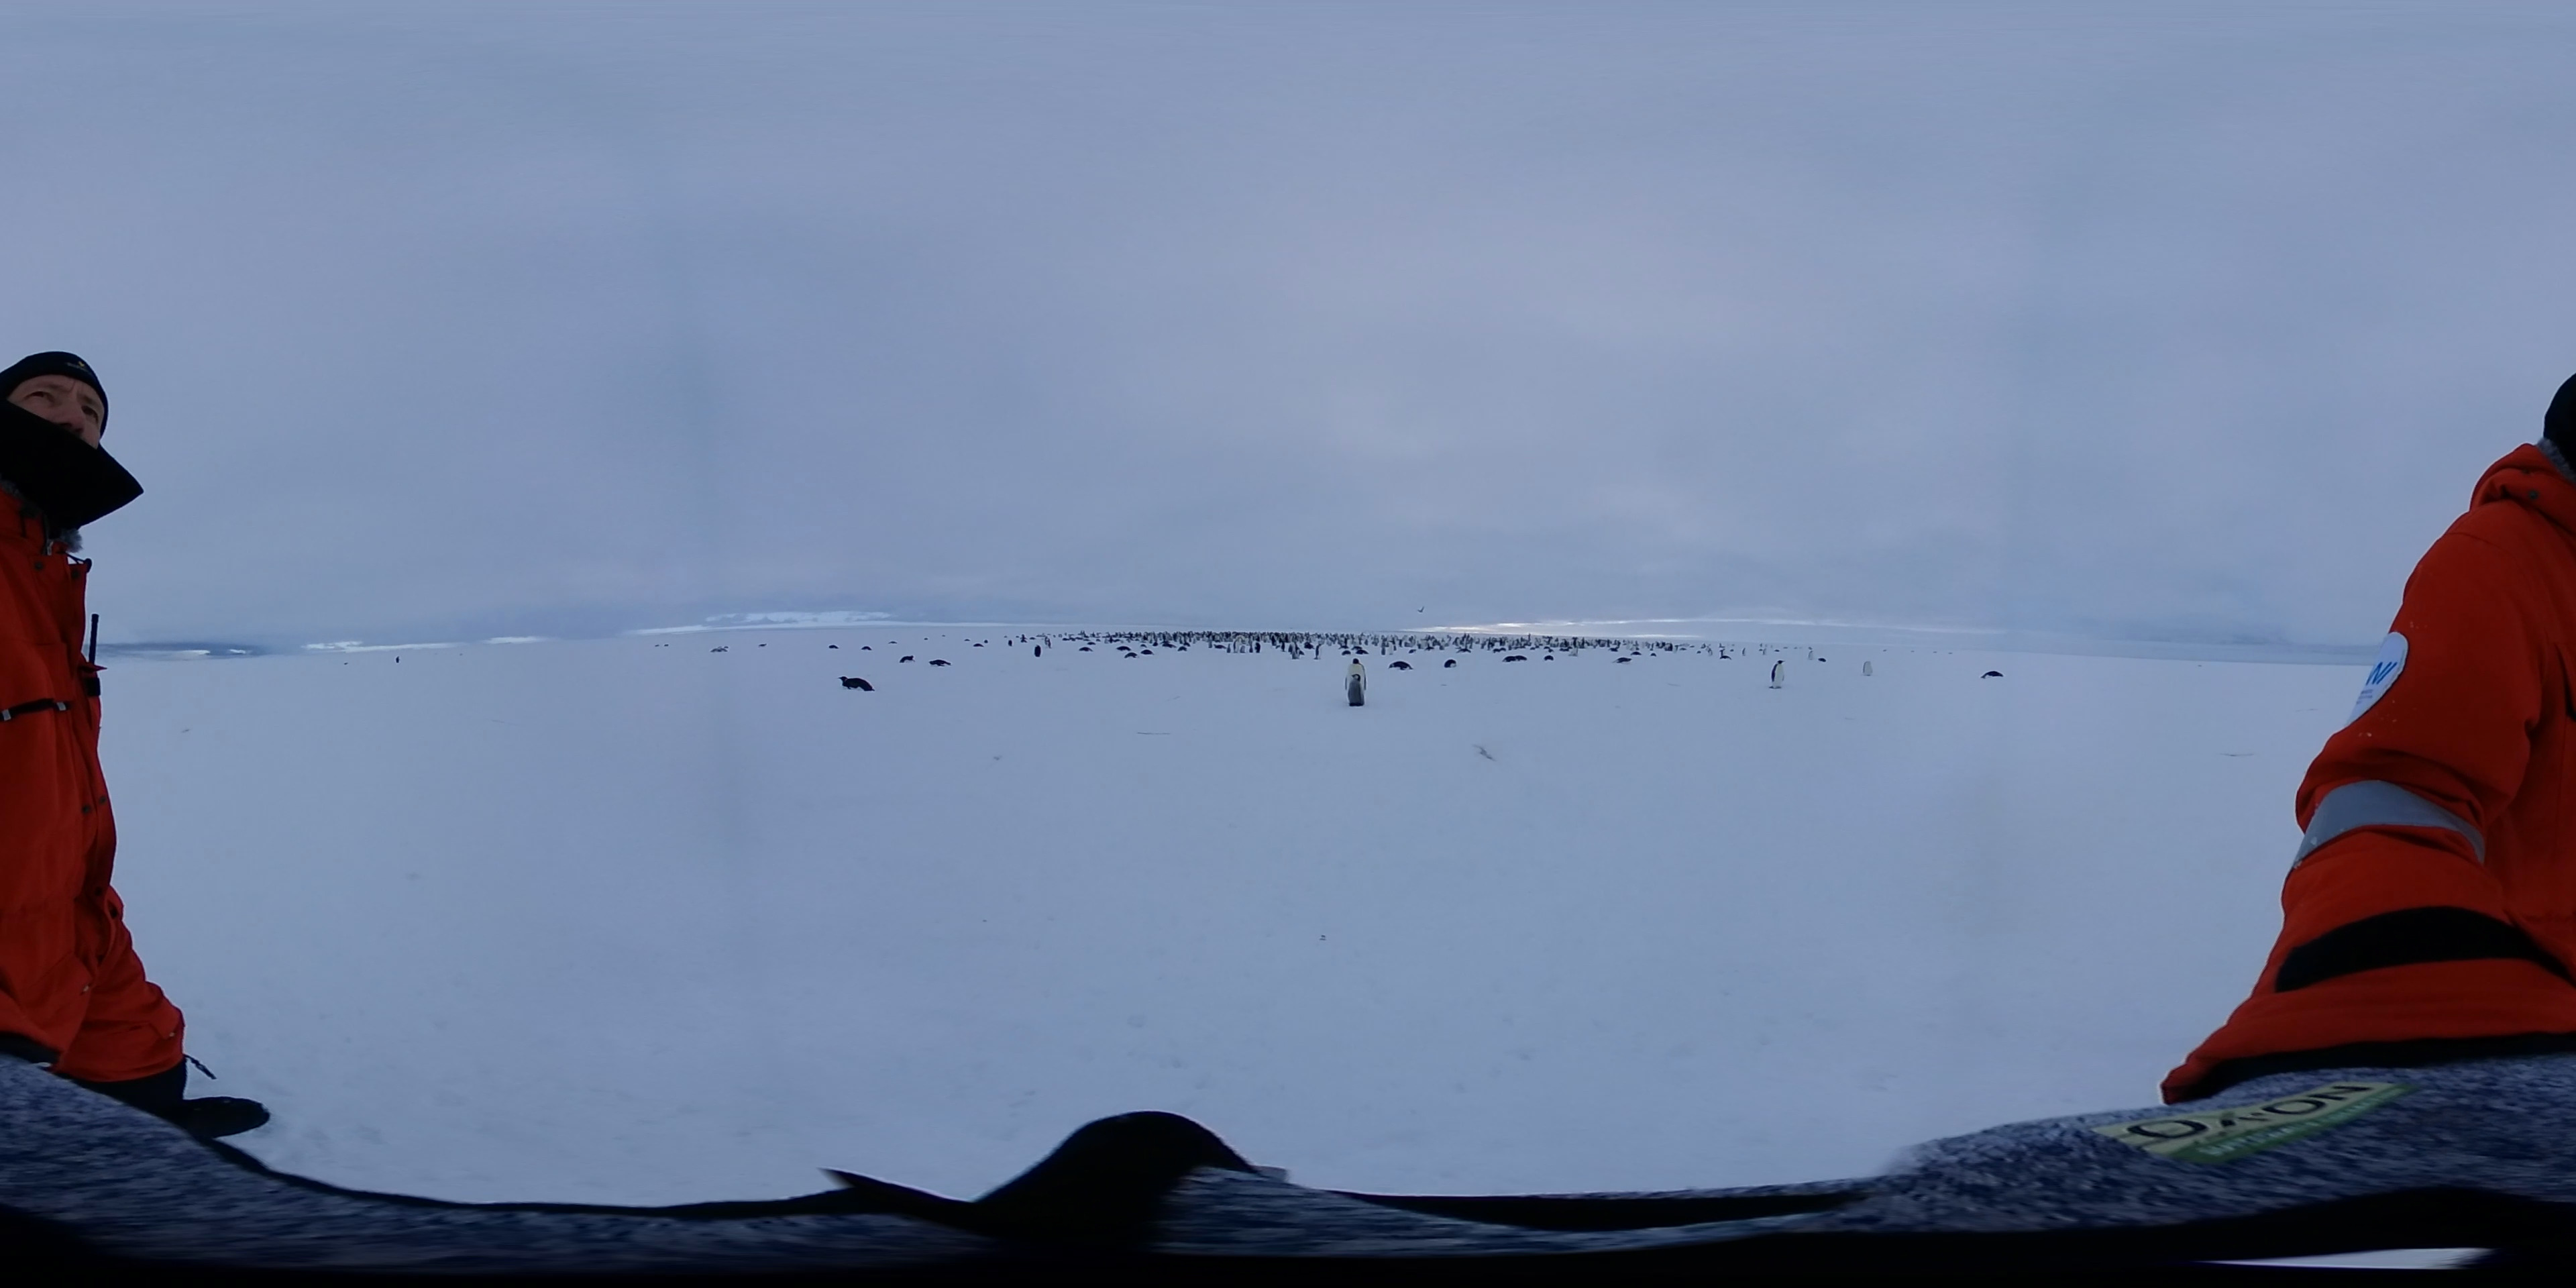adult_standing_penguin: (1344, 655, 1368, 703), (1769, 655, 1786, 693), (1030, 644, 1043, 660), (1863, 660, 1874, 677)
adult_toboggan_penguin: (836, 672, 879, 695), (927, 659, 953, 670), (1385, 662, 1416, 670), (1980, 670, 2001, 680), (1122, 649, 1142, 659), (1612, 655, 1631, 665), (1503, 654, 1520, 665), (1442, 657, 1457, 669), (1515, 654, 1529, 662)
juvenile_penguin: (1347, 672, 1368, 710)
researcher: (2155, 345, 2576, 1115), (0, 335, 158, 1175)
